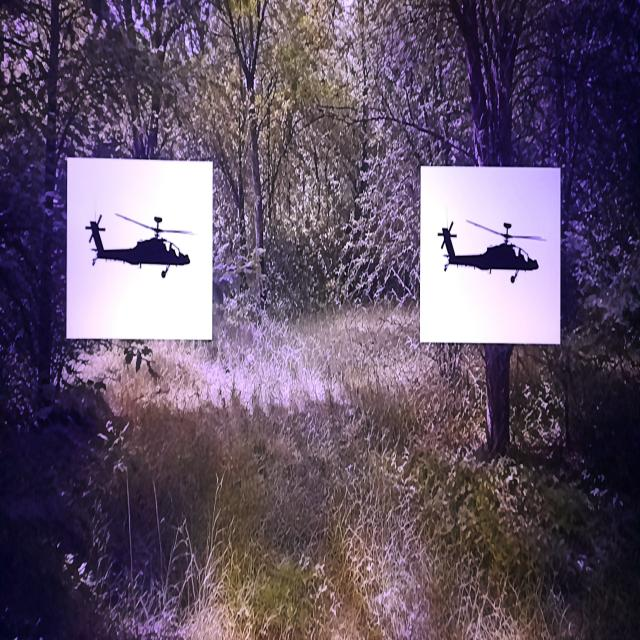Apache friendly: (438, 221, 545, 283), (86, 214, 191, 277)
